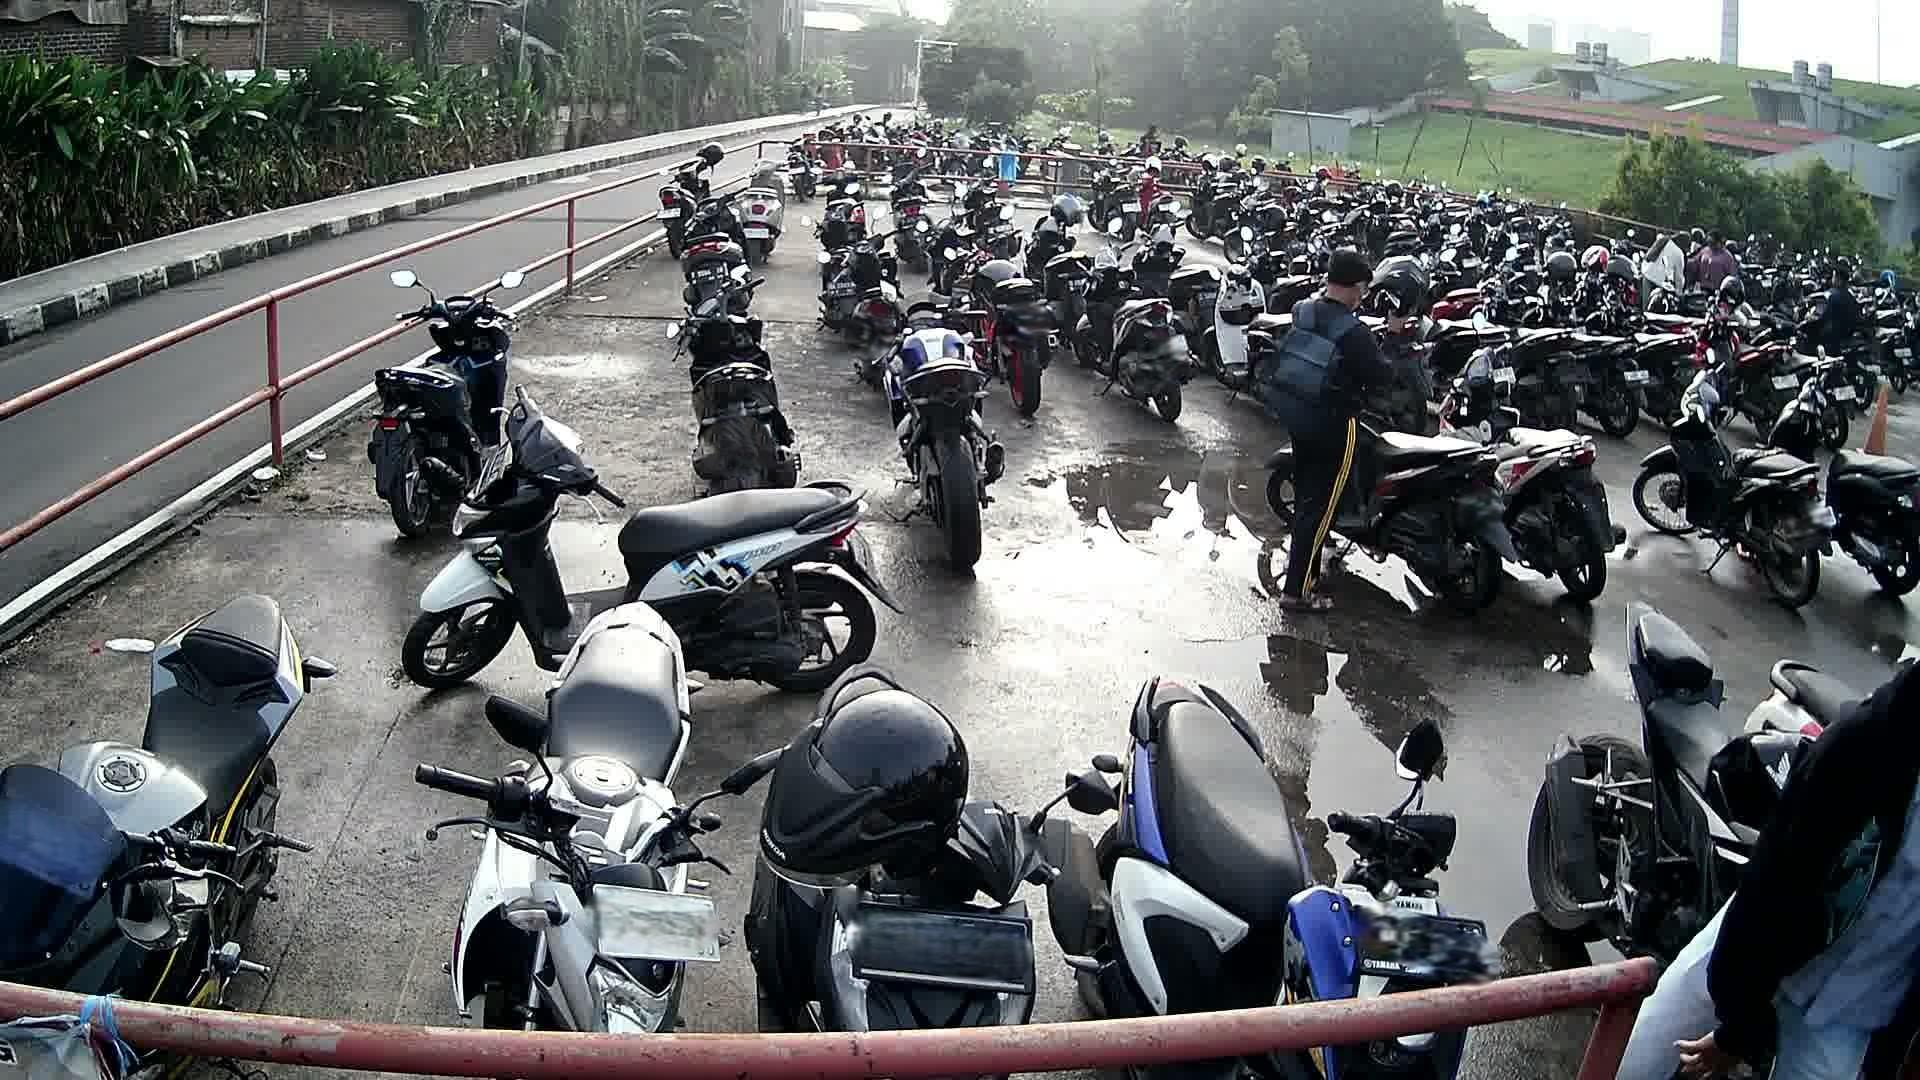motorcycle: (409, 389, 903, 696), (1039, 671, 1506, 996), (406, 596, 748, 1034), (0, 587, 342, 1002), (736, 662, 1060, 1029), (1526, 596, 1741, 927), (1634, 365, 1836, 612), (1447, 338, 1629, 600), (866, 286, 1019, 567), (377, 266, 508, 539), (1788, 364, 1920, 601), (1367, 418, 1515, 616), (671, 264, 800, 488)
